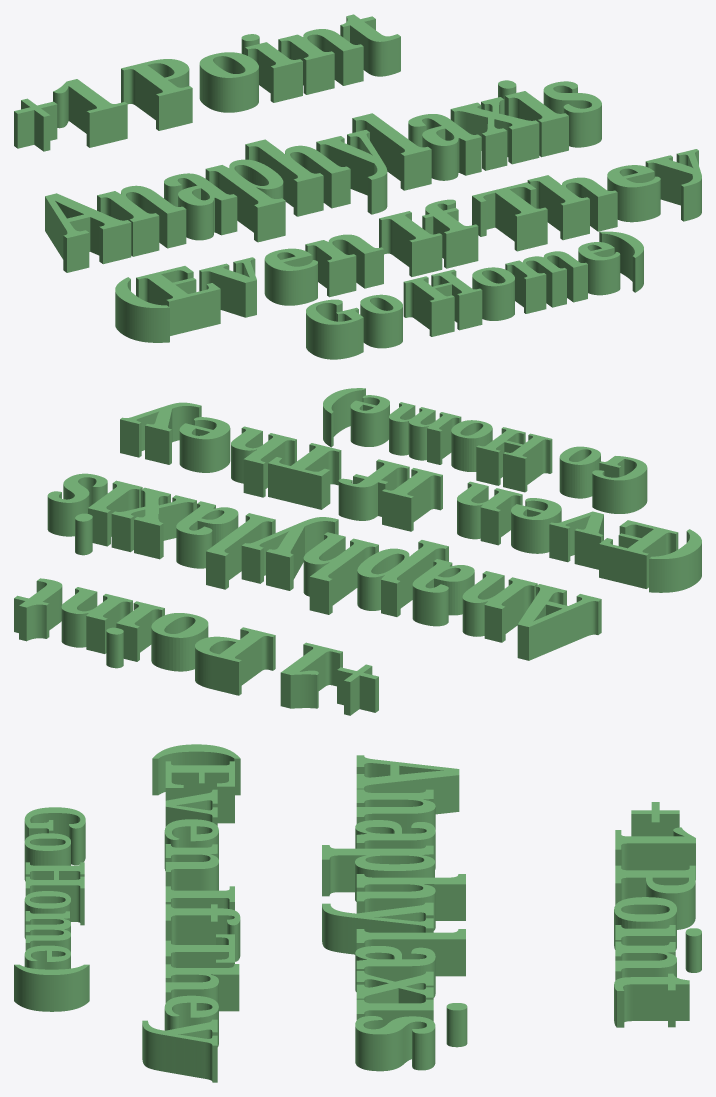
Rendered from posana.gltf.
3 views of the same model, one above another, from view 1: azimuth 30°, elevation 25°; view 2: azimuth 150°, elevation 25°; view 3: azimuth 270°, elevation 25° (orthographic). The views are drawn at different scales.
Visible parts, largest first — view 1: Mesh_Mesh_head_geo001_lambert2SG001; view 2: Mesh_Mesh_head_geo001_lambert2SG001; view 3: Mesh_Mesh_head_geo001_lambert2SG001.
Boxes of the visible parts, bbox=[...] form: Mesh_Mesh_head_geo001_lambert2SG001: bbox=[14, 14, 701, 359]; Mesh_Mesh_head_geo001_lambert2SG001: bbox=[14, 388, 701, 715]; Mesh_Mesh_head_geo001_lambert2SG001: bbox=[14, 744, 701, 1082].
Bounding box in the file's own units: 176 × 10 × 170.
